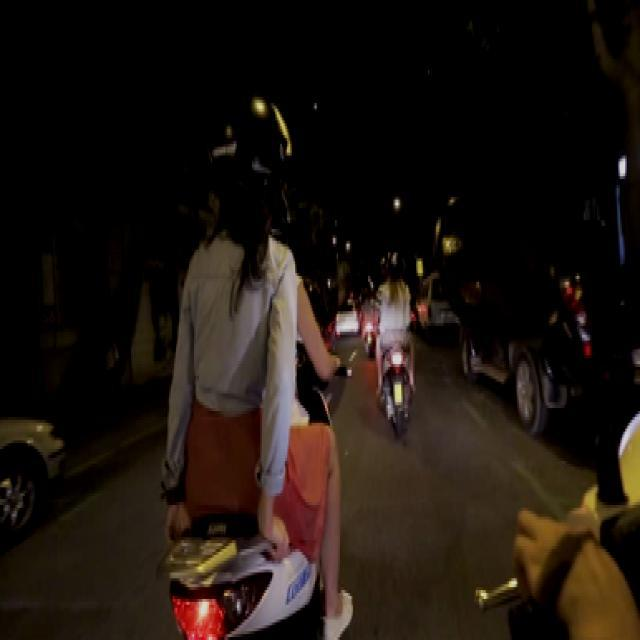Helmet: (217, 94, 292, 235), (386, 244, 403, 276)
